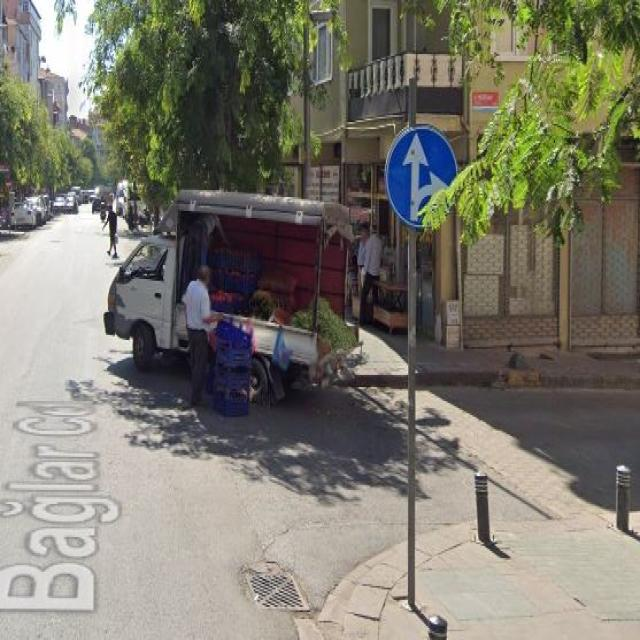ilerisag: (386, 126, 457, 227)
